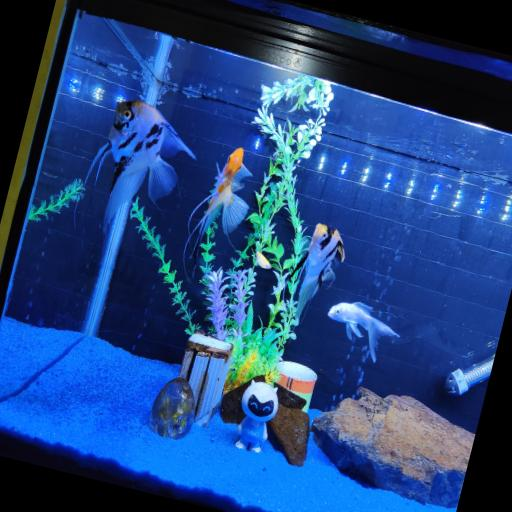Fish: (84, 101, 195, 231), (183, 148, 251, 263), (292, 224, 344, 322), (328, 302, 399, 362), (255, 252, 271, 269)
